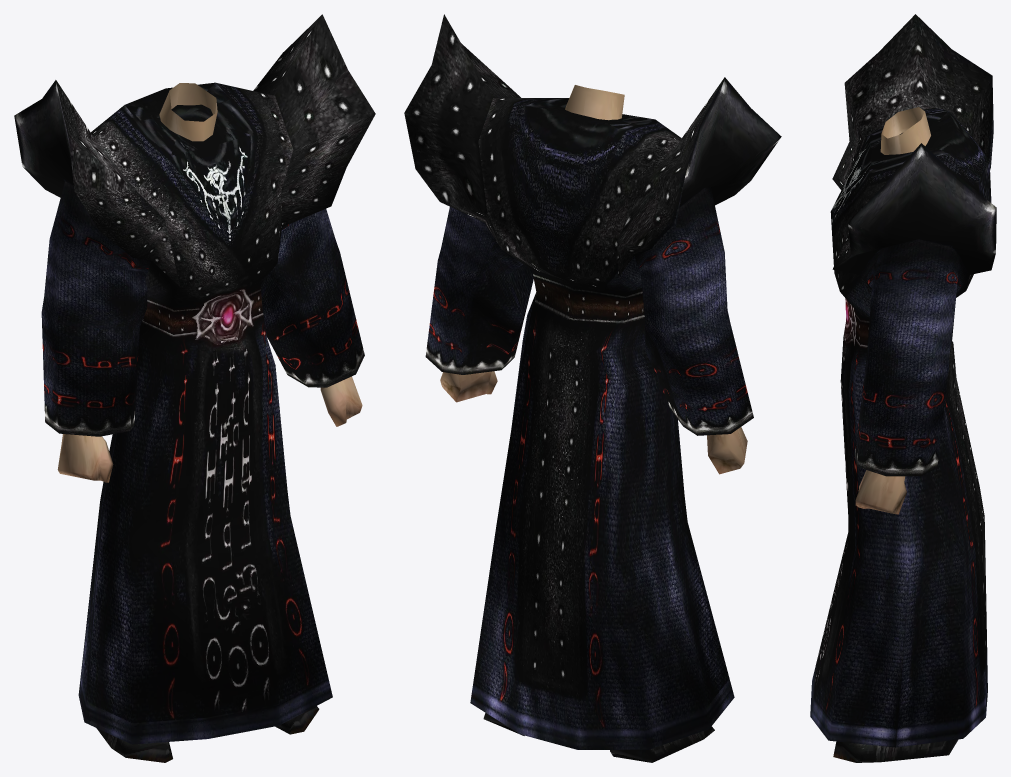
File: ARMOR_DS_DARKMAG_02.glb
The picture shows the model from 3 angles, left to right: view 1: azimuth 30°, elevation 25°; view 2: azimuth 150°, elevation 25°; view 3: azimuth 270°, elevation 25°; orthographic projection. The views are drawn at different scales.
Visible parts, largest first — view 1: ARMOR_DS_DARKMAG_02; view 2: ARMOR_DS_DARKMAG_02; view 3: ARMOR_DS_DARKMAG_02.
Boxes of the visible parts, box(x1,y1,x2,y2) form: ARMOR_DS_DARKMAG_02: box(14, 14, 375, 762); ARMOR_DS_DARKMAG_02: box(404, 14, 781, 762); ARMOR_DS_DARKMAG_02: box(810, 14, 996, 762).
Size of the model in its own units: 0.8574 by 1.77 by 0.4603.
Materials: 2 (2 with a texture image).
